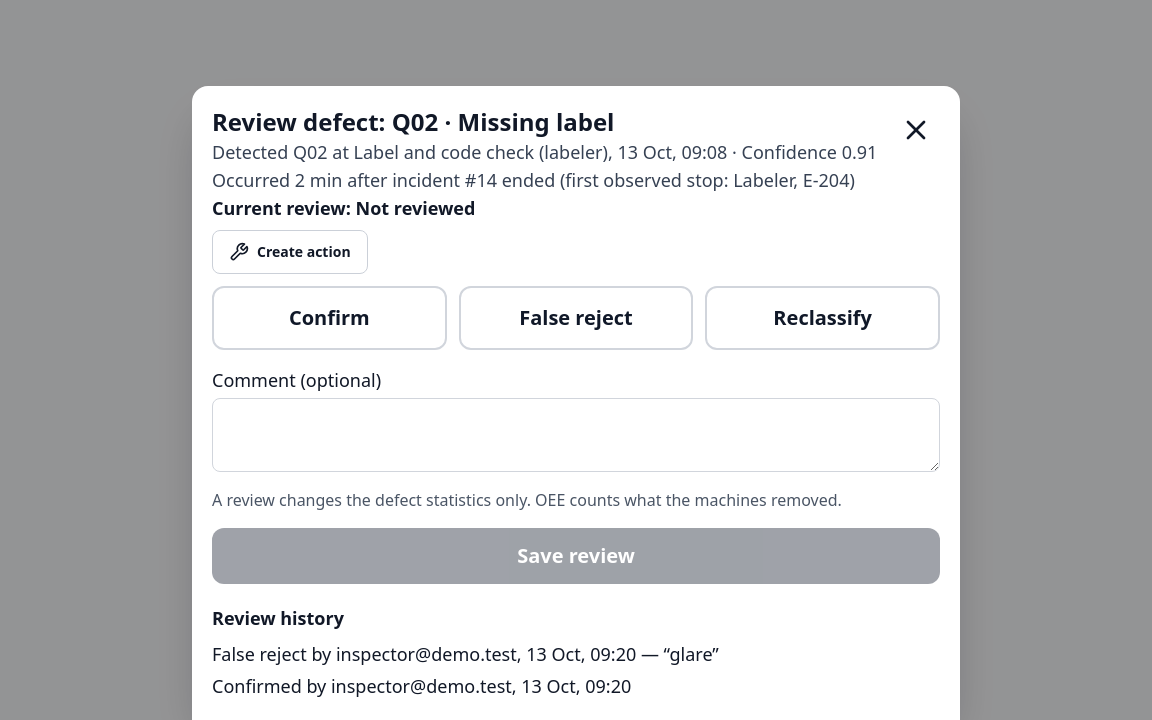
Test: ReviewPanel › shows the review history, newest first, and errors from the server
The width and height of the screenshot is (1152, 720).
Click the button "Confirm": (329, 318) [212,286,447,350]
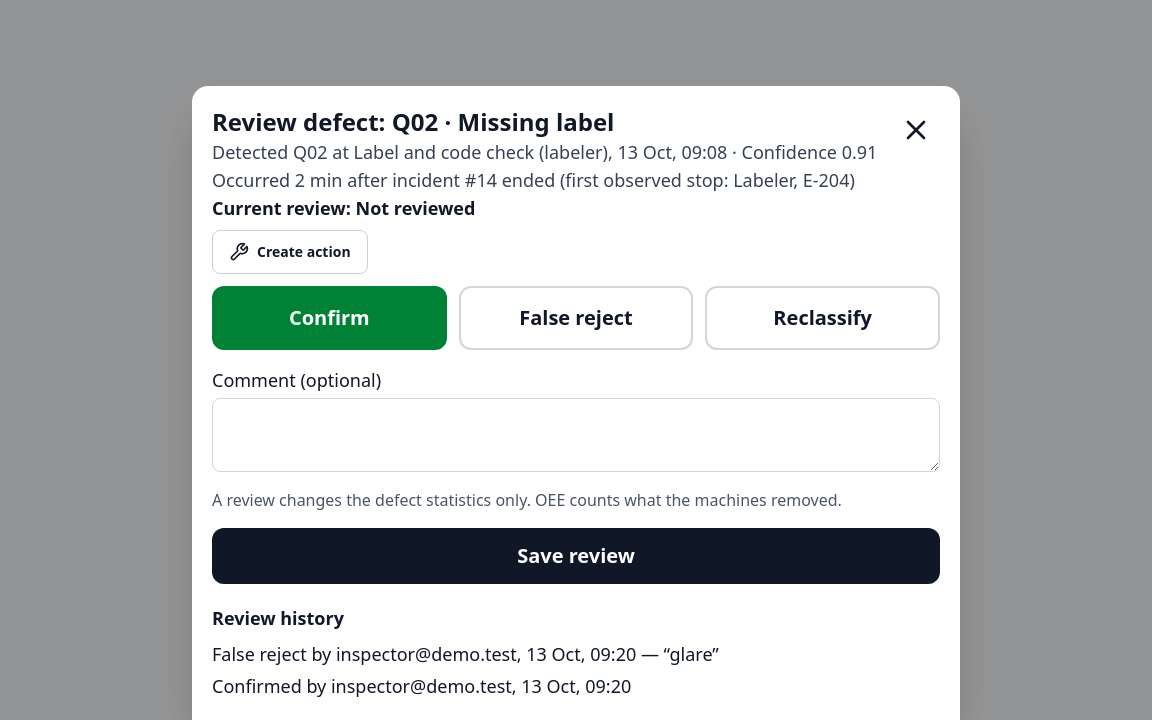
Click the button "Save review": (576, 556) [212,528,940,584]
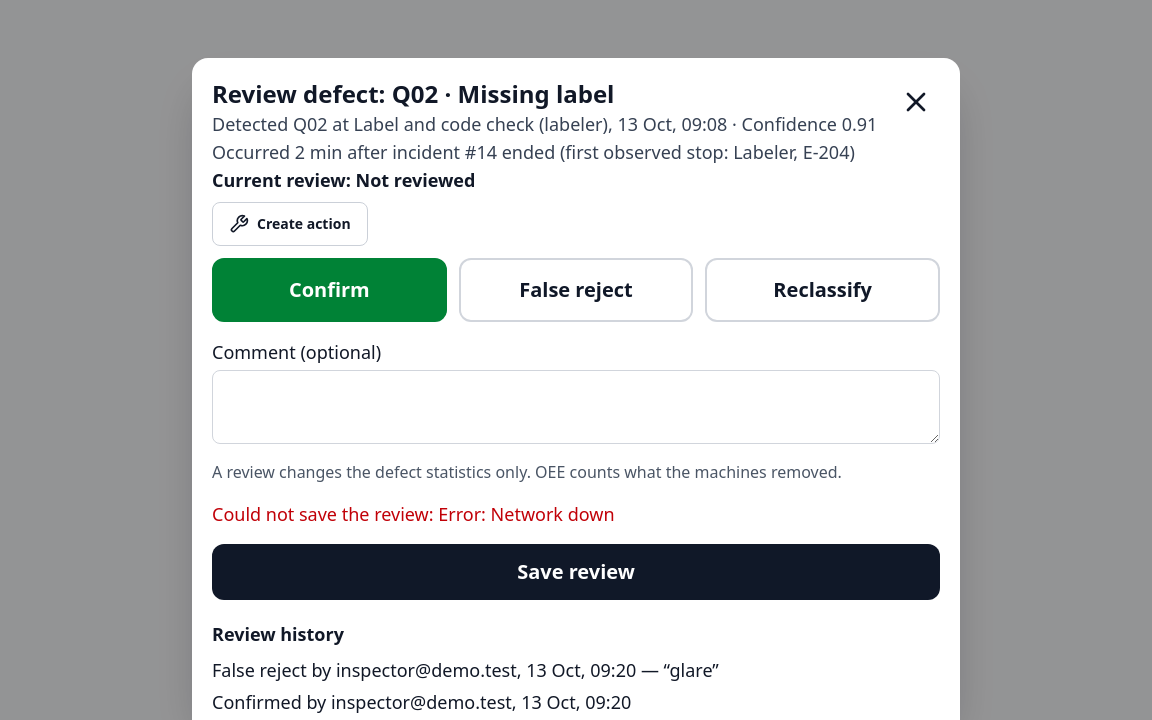
Now the message shows "Network down", box [212,502,614,526]
